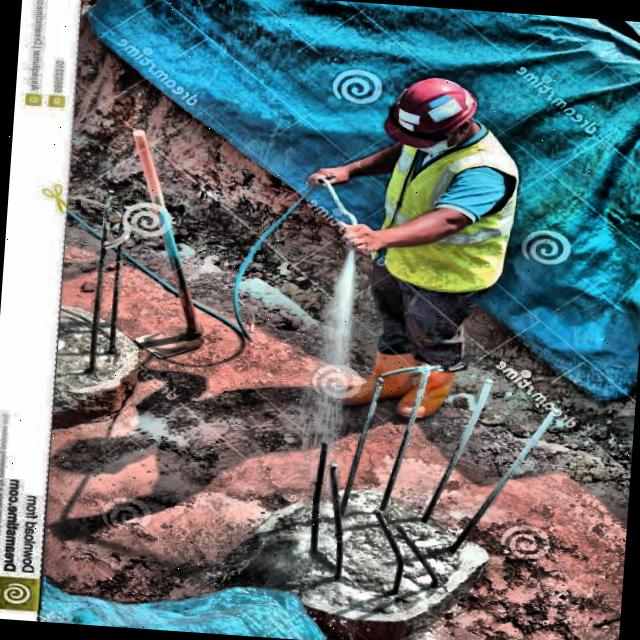helmet: (386, 72, 484, 148)
